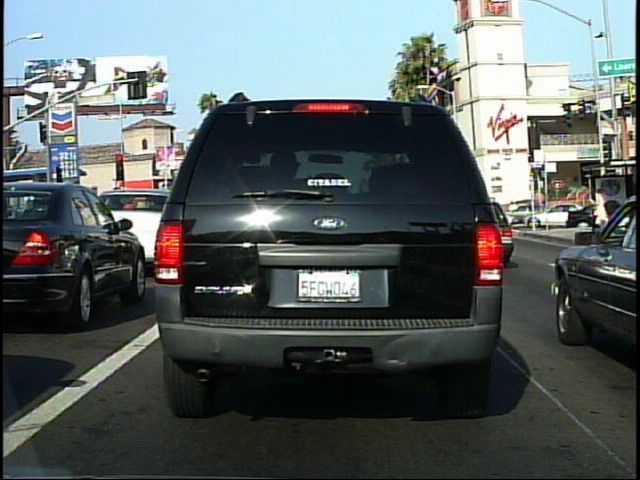person: (590, 183, 609, 231), (508, 198, 521, 225)
